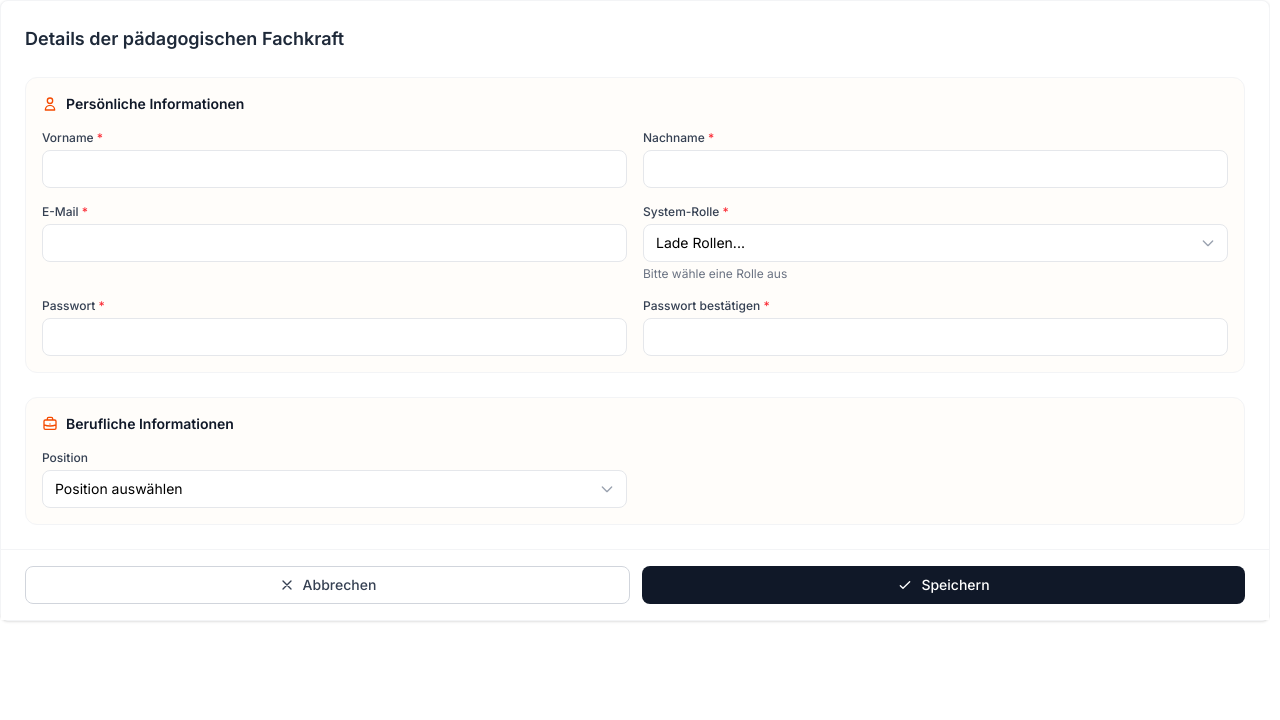
Test: TeacherForm › validates password minimum length
Type "John" into the field labelled "Vorname *" at (334, 169), box [42,150,627,188]
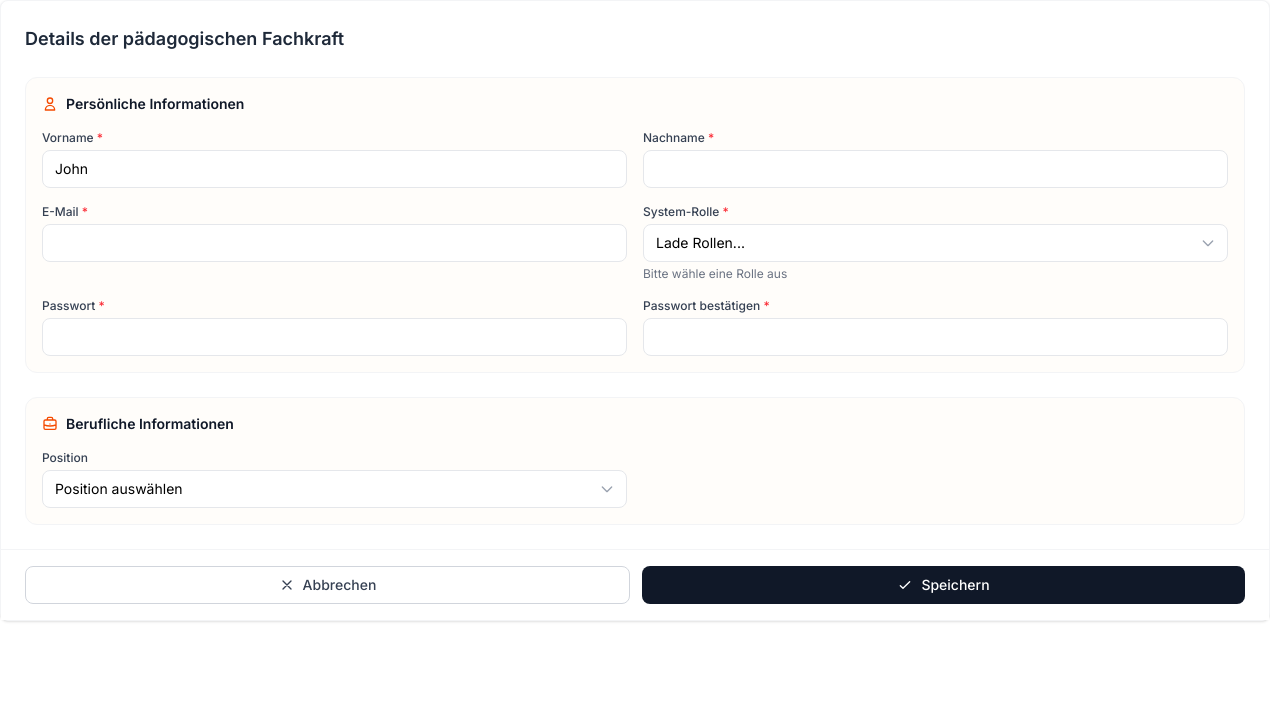
Type "Doe" into the field labelled "Nachname *" at (936, 169), box [643,150,1228,188]
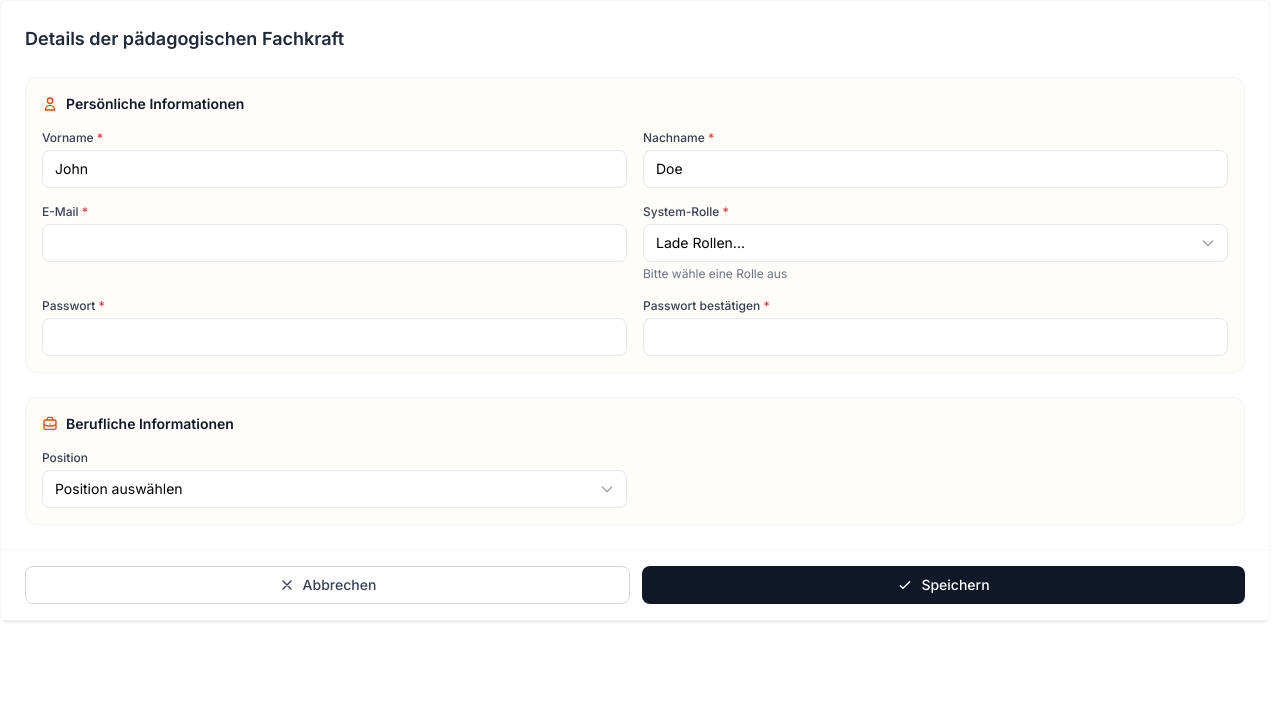
Type "john@example.com" into the field labelled "E-Mail *" at (334, 243), box [42,224,627,262]
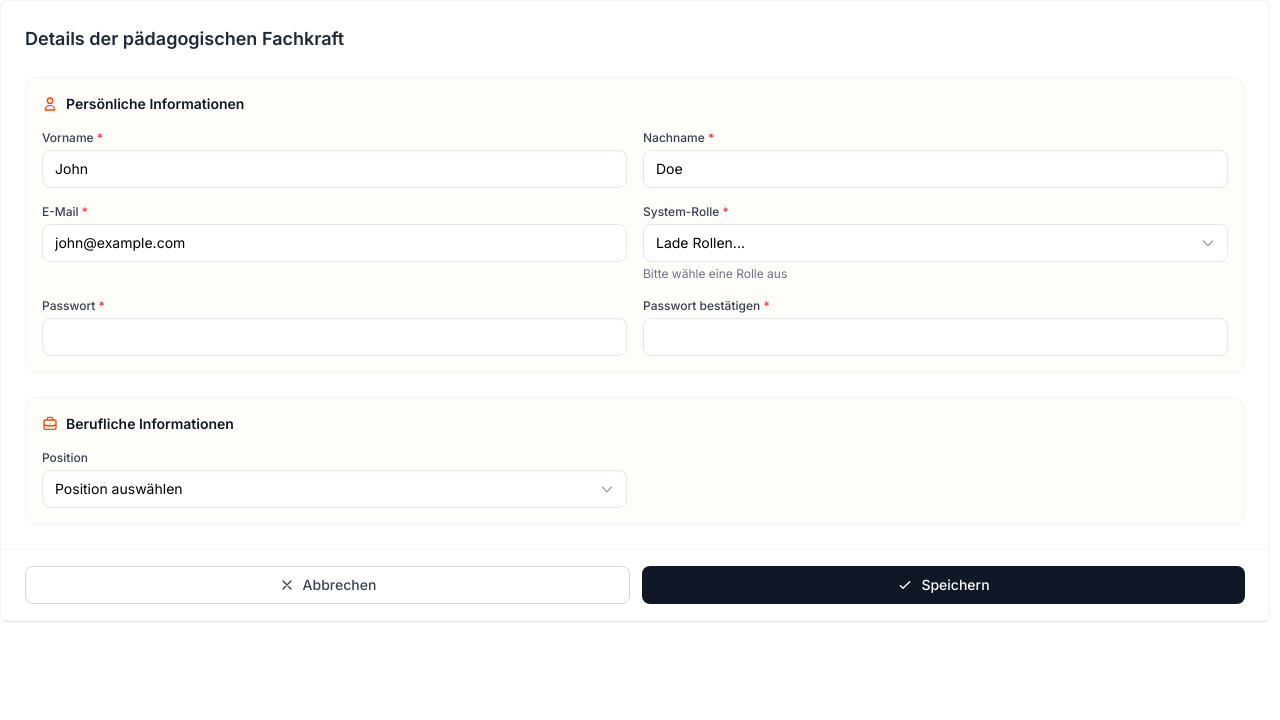
Type "short" into the password field labelled "Passwort *" at (334, 337), box [42,318,627,356]
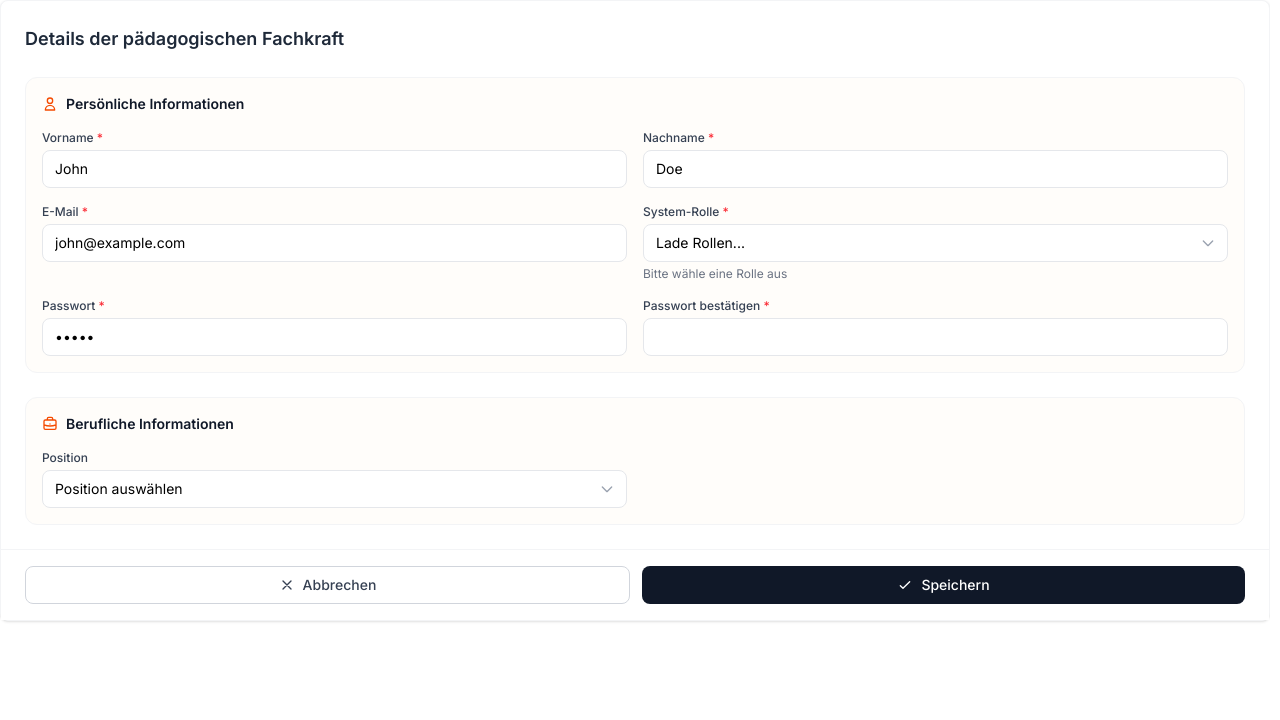
Click the button "Speichern" at (944, 585), box [642,566,1245,604]
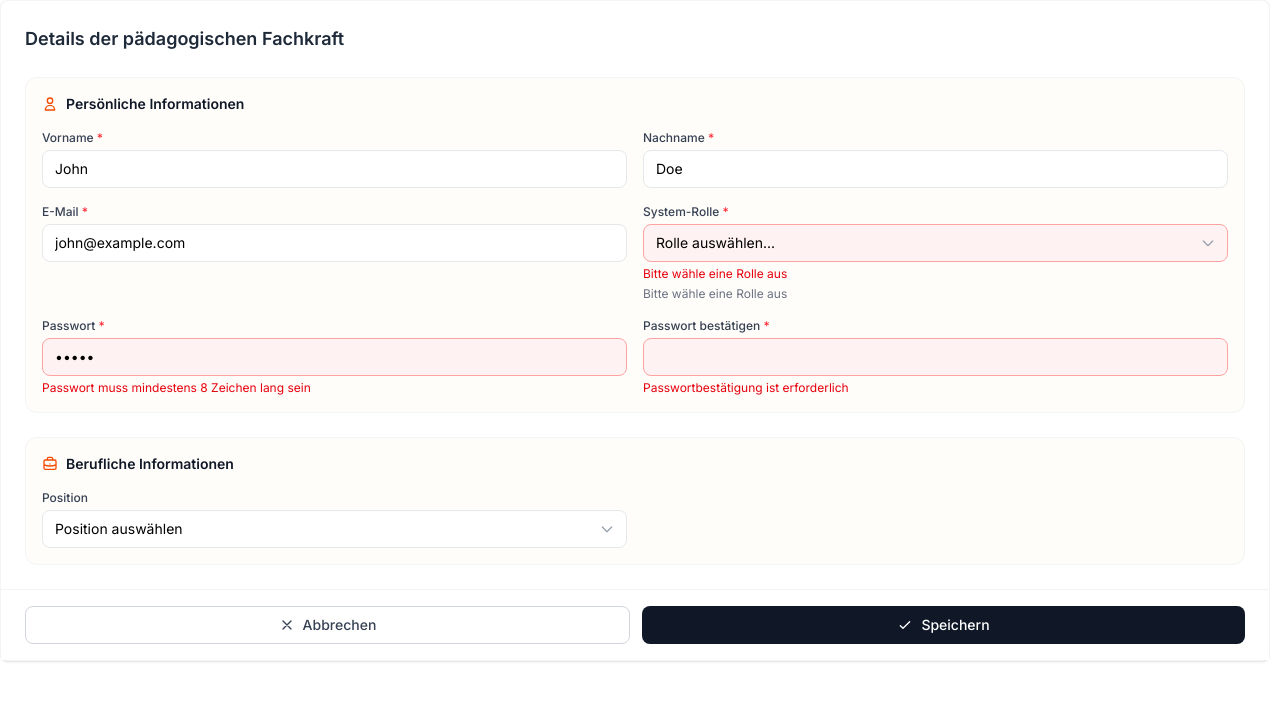
Now the text "Passwort muss mindestens 8 Zeichen lang sein" is shown, box [42,380,311,395]
